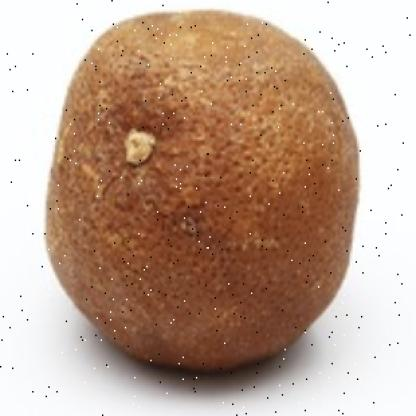rotten: (47, 12, 362, 372)
